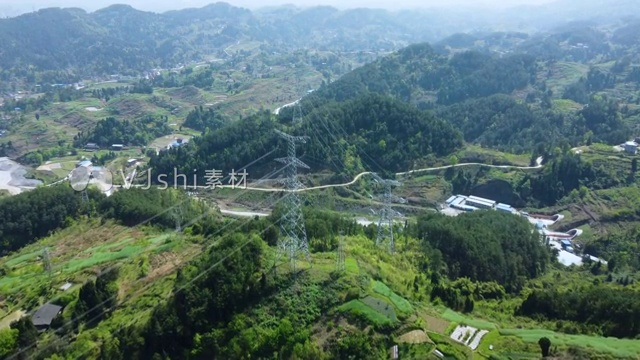tower_body: (267, 122, 327, 281)
tower_foot: (272, 229, 317, 277)
tower_head: (271, 126, 315, 148)
